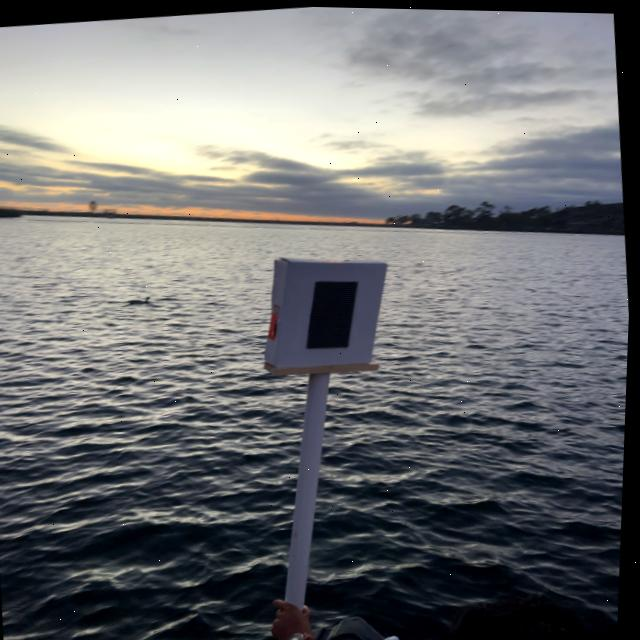led: (281, 258, 373, 373)
